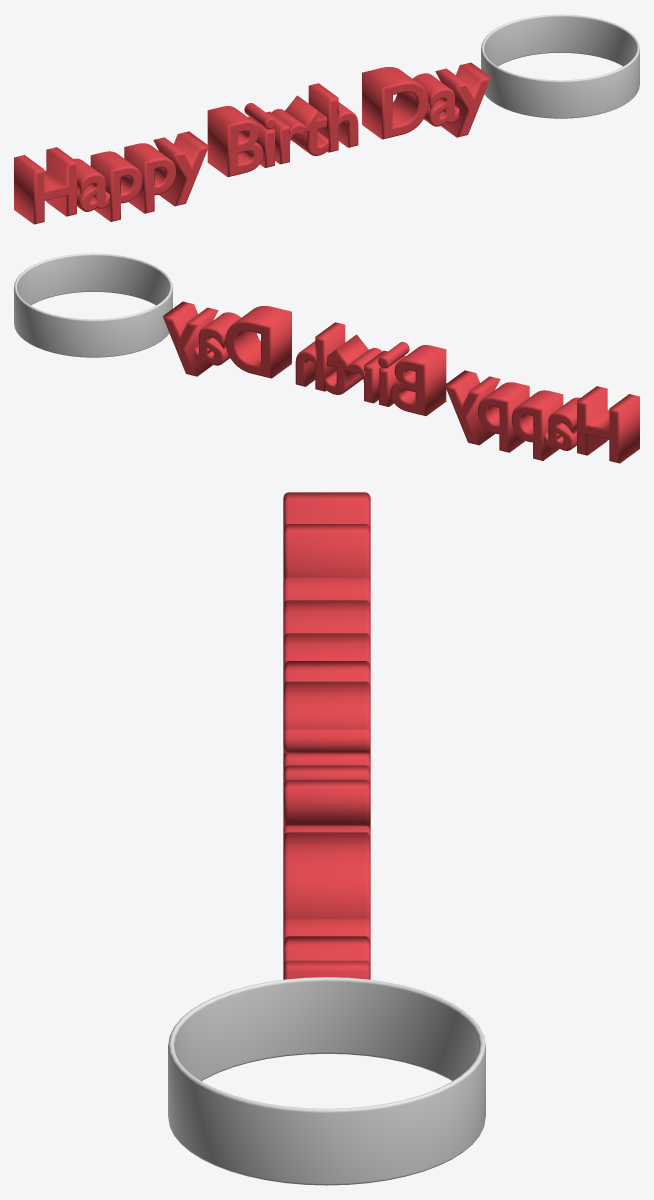
The model's file is HBD.glb.
The picture shows the model from 3 angles, top to bottom: view 1: azimuth 30°, elevation 25°; view 2: azimuth 150°, elevation 25°; view 3: azimuth 270°, elevation 25°; orthographic projection. The views are drawn at different scales.
Parts seen in each view (by area): view 1: Text, BezierCircle; view 2: Text, BezierCircle; view 3: BezierCircle, Text.
Boxes of the visible parts, x1=… form: Text: x1=14, y1=62, x2=490, y2=224; BezierCircle: x1=481, y1=14, x2=639, y2=118; Text: x1=163, y1=301, x2=639, y2=463; BezierCircle: x1=14, y1=253, x2=172, y2=357; BezierCircle: x1=168, y1=977, x2=485, y2=1185; Text: x1=283, y1=492, x2=370, y2=979.
Size of the model in its own units: 8.97 by 0.972 by 2.04.
